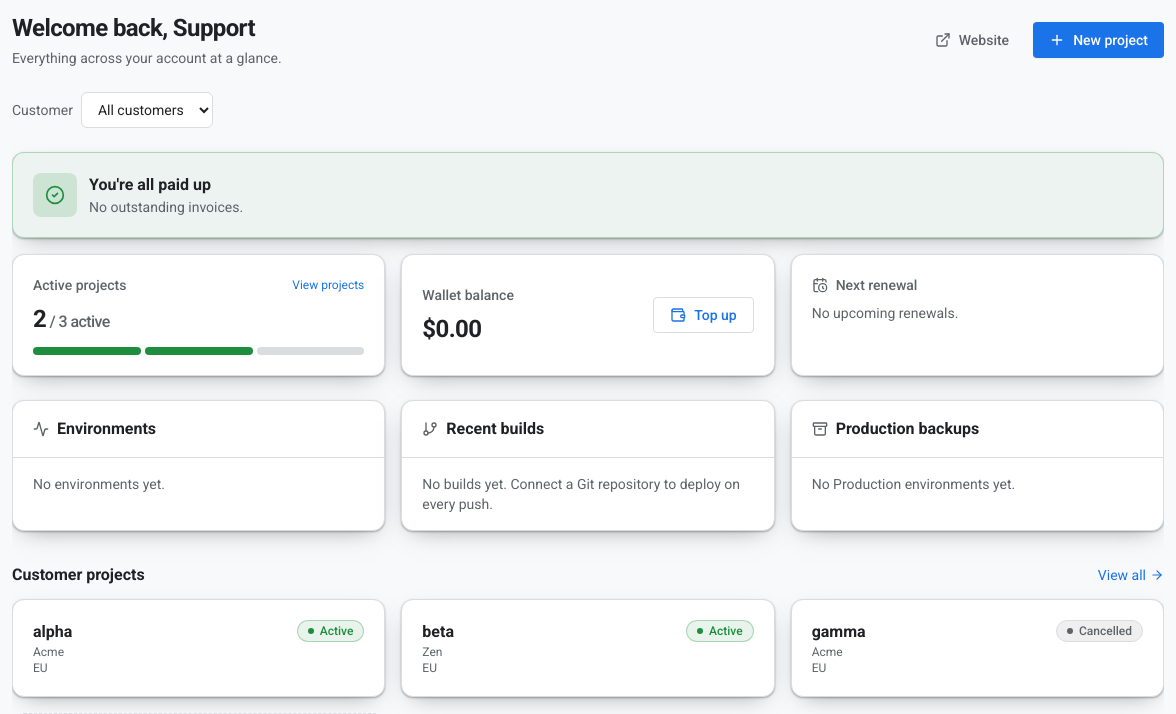
Test: Staff customer project filtering › also filters the dashboard project cards and fleet totals
This screenshot has width=1176, height=714.
Check: the text "alpha" is shown, box left=33, top=620, right=72, bottom=644
Select "Zen" in the dropdown labelled "Customer" at (147, 110), box left=81, top=92, right=213, bottom=128
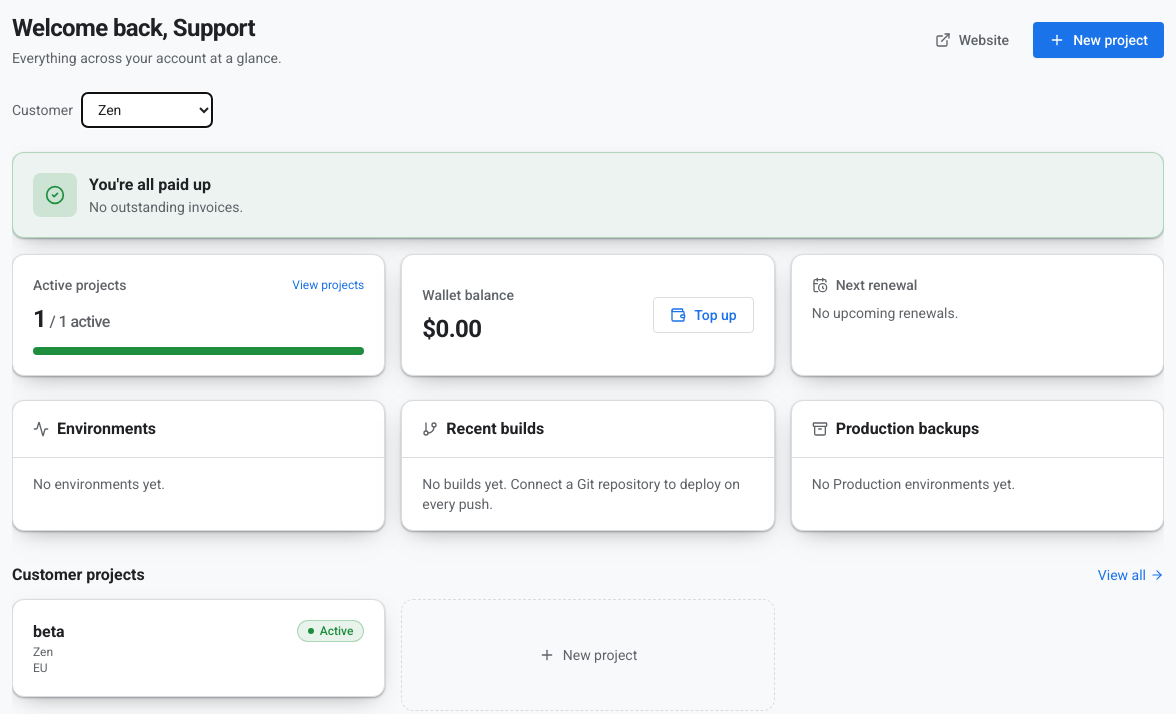
Check: the link "alpha" is gone
Check: the link "gamma" is gone
Check: the text "/ 1 active" is shown, box left=46, top=312, right=110, bottom=331
Select "All customers" in the dropdown labelled "Customer" at (147, 110), box left=81, top=92, right=213, bottom=128
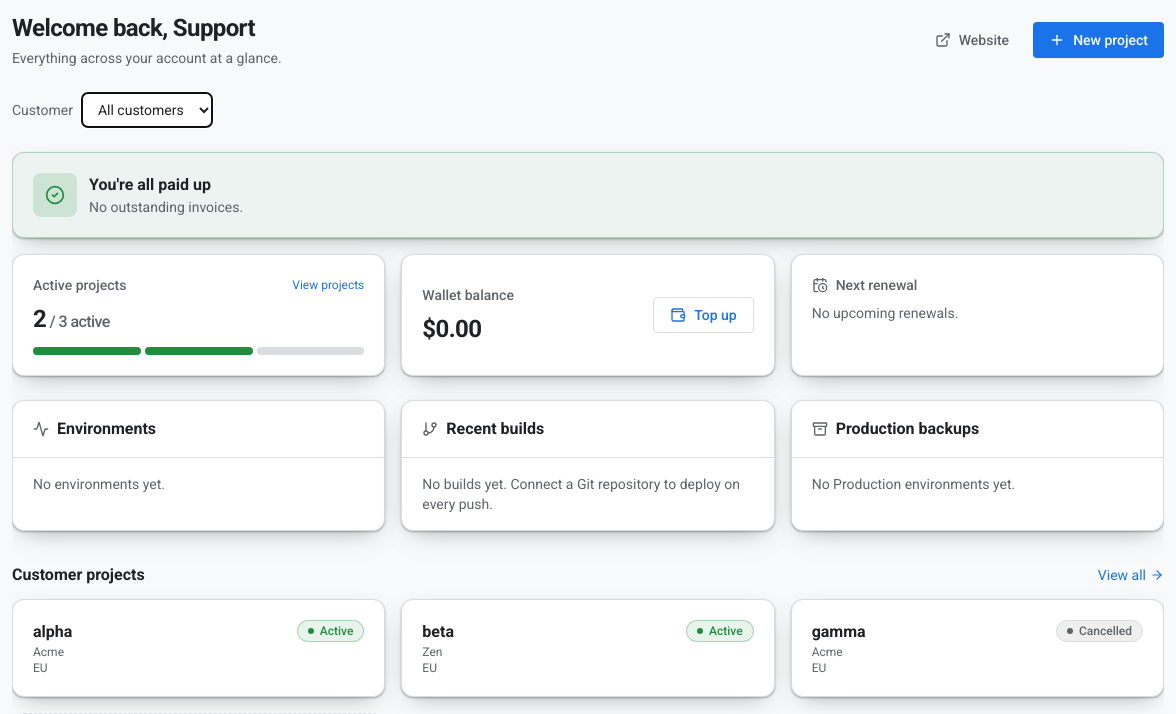
Check: the text "alpha" is shown, box left=33, top=620, right=72, bottom=644
Check: the text "/ 3 active" is shown, box left=46, top=312, right=110, bottom=331
